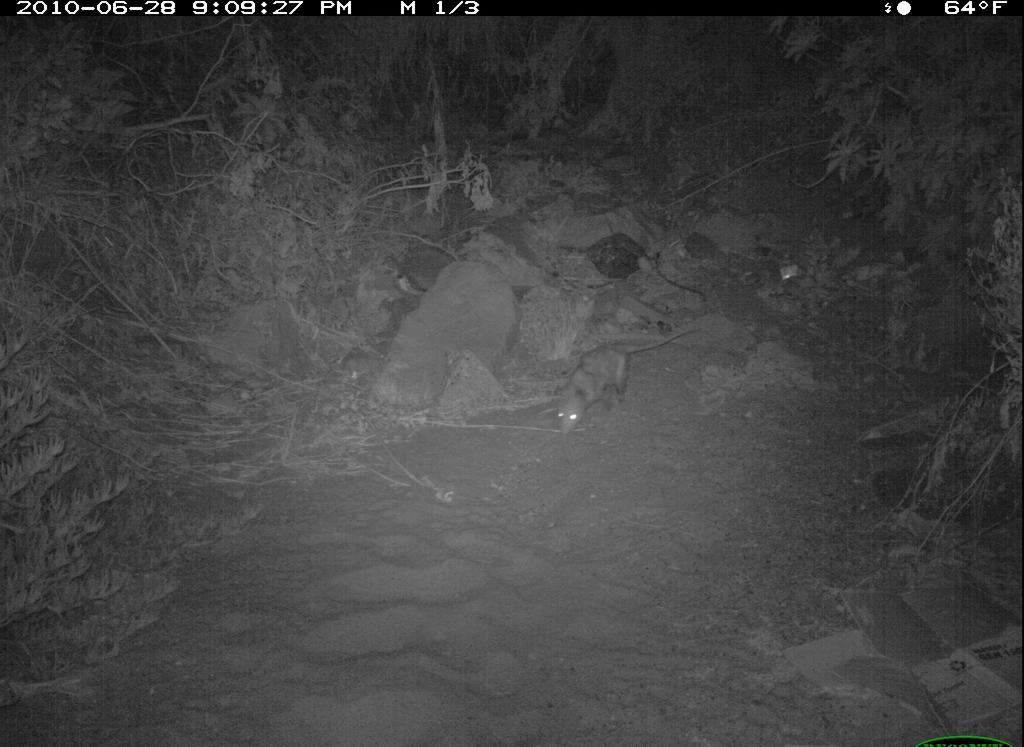opossum: (543, 321, 709, 444)
